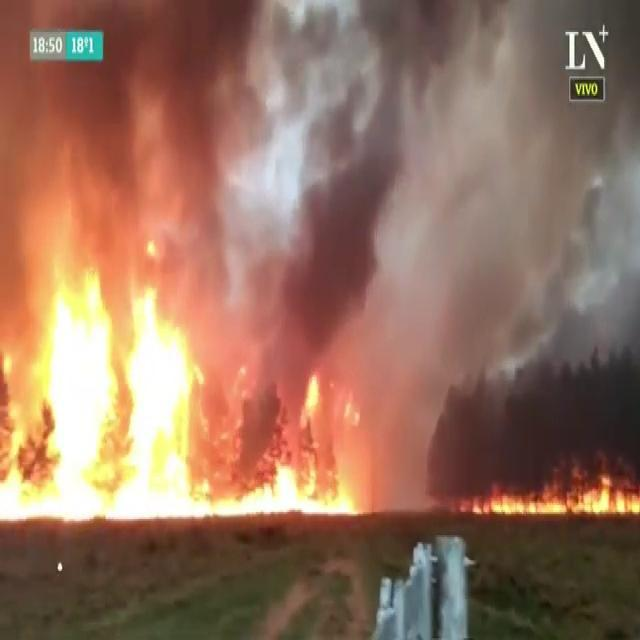Fire: (0, 238, 340, 512), (122, 265, 220, 526), (471, 474, 640, 520), (226, 462, 364, 508), (570, 464, 638, 509), (450, 488, 504, 516), (341, 388, 371, 434), (302, 368, 324, 422)
Smoke: (245, 11, 637, 356), (4, 20, 242, 258), (262, 61, 406, 366), (413, 261, 635, 452)
